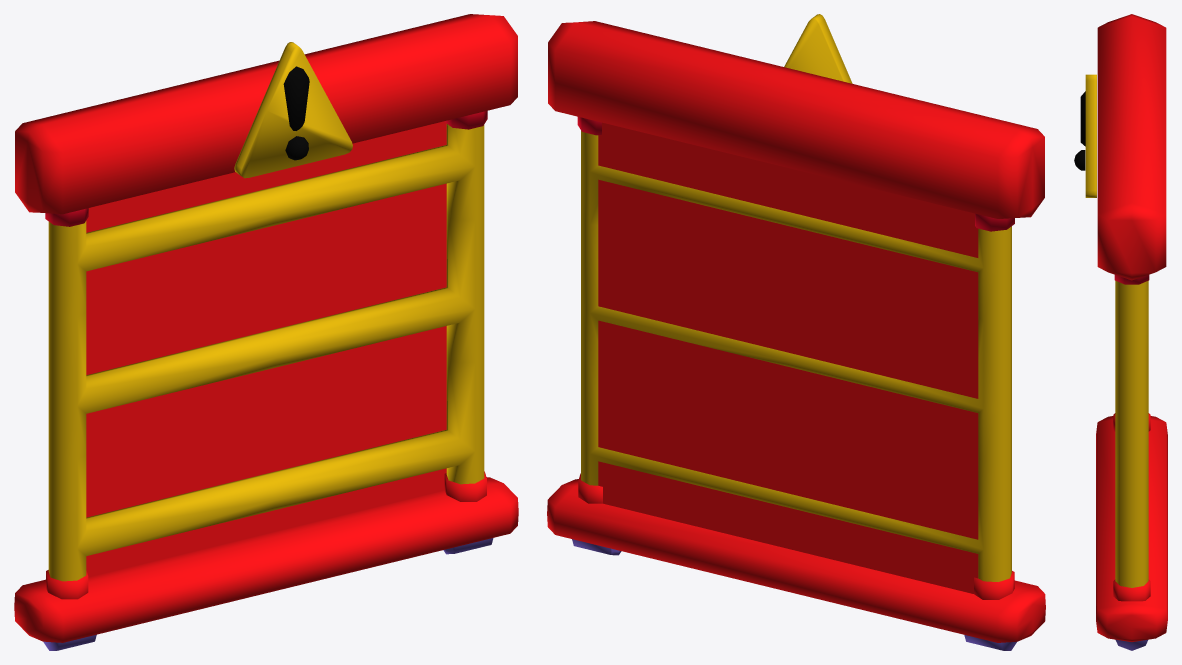
Rendered from Moving_Electricity_Panel.fbx.
The picture shows the model from 3 angles, left to right: view 1: azimuth 30°, elevation 25°; view 2: azimuth 150°, elevation 25°; view 3: azimuth 270°, elevation 25°; orthographic projection. The views are drawn at different scales.
Visible parts, largest first — view 1: moving electricity panel; view 2: moving electricity panel; view 3: moving electricity panel.
Boxes of the visible parts, x1,y1,x2,y2 form: moving electricity panel: (14, 14, 518, 650); moving electricity panel: (547, 14, 1045, 650); moving electricity panel: (1074, 14, 1167, 650).
Bounding box in the file's own units: 196 × 223 × 38.91.
